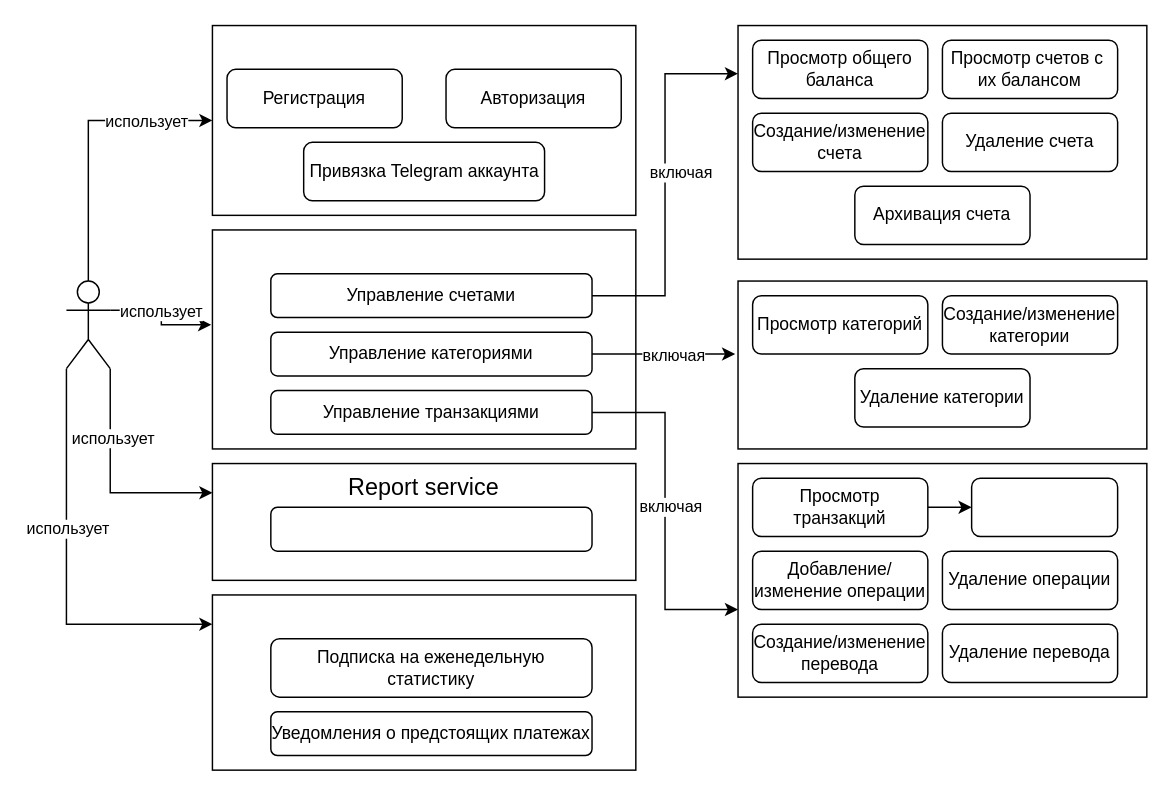
Image size: 1172x796. Some labels were removed from this diagram. Each missing label, with the box of its shape:
Core service: (211, 228, 636, 449)
Identity service: (211, 24, 636, 215)
Notification service: (211, 593, 636, 770)
User: (65, 280, 110, 369)
Фильтрация транзакций: (970, 477, 1118, 537)
Формирование отчетов: (269, 506, 592, 551)
